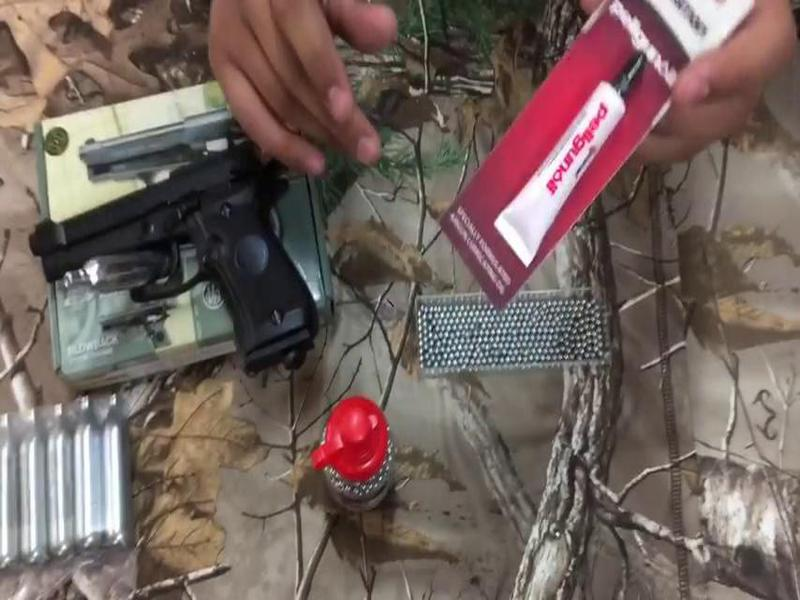Pistola: (9, 126, 334, 387)
